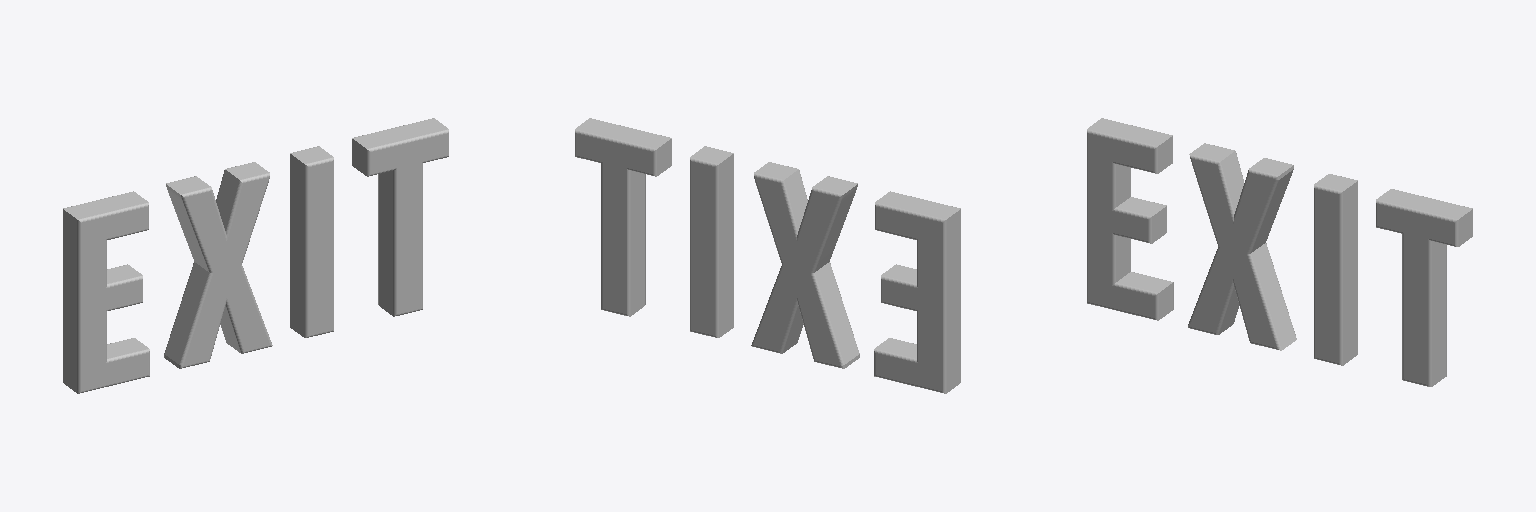
The model's file is exit.obj.
The picture shows the model from 3 angles: view 1: azimuth 30°, elevation 25°; view 2: azimuth 150°, elevation 25°; view 3: azimuth 330°, elevation 25°; orthographic projection.
Visible parts, largest first — view 1: Text; view 2: Text; view 3: Text.
Boxes of the visible parts, x1=… form: Text: x1=63, y1=118, x2=448, y2=393; Text: x1=575, y1=118, x2=960, y2=393; Text: x1=1087, y1=118, x2=1472, y2=386.
Bounding box in the file's own units: 1.47 × 0.6583 × 0.12.